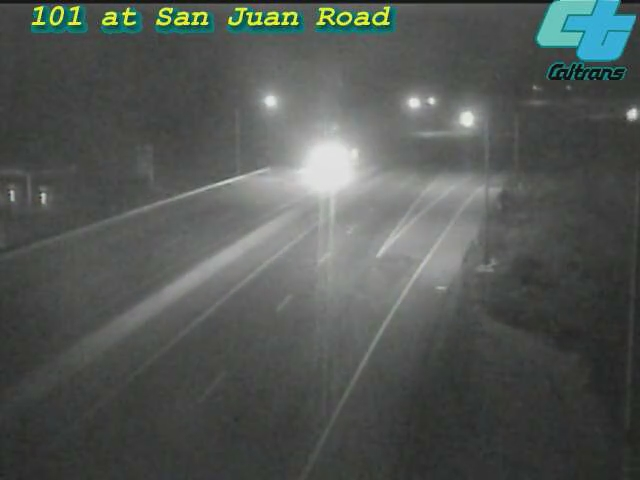vehicle: (284, 124, 364, 204), (440, 95, 490, 145), (605, 91, 640, 141)
